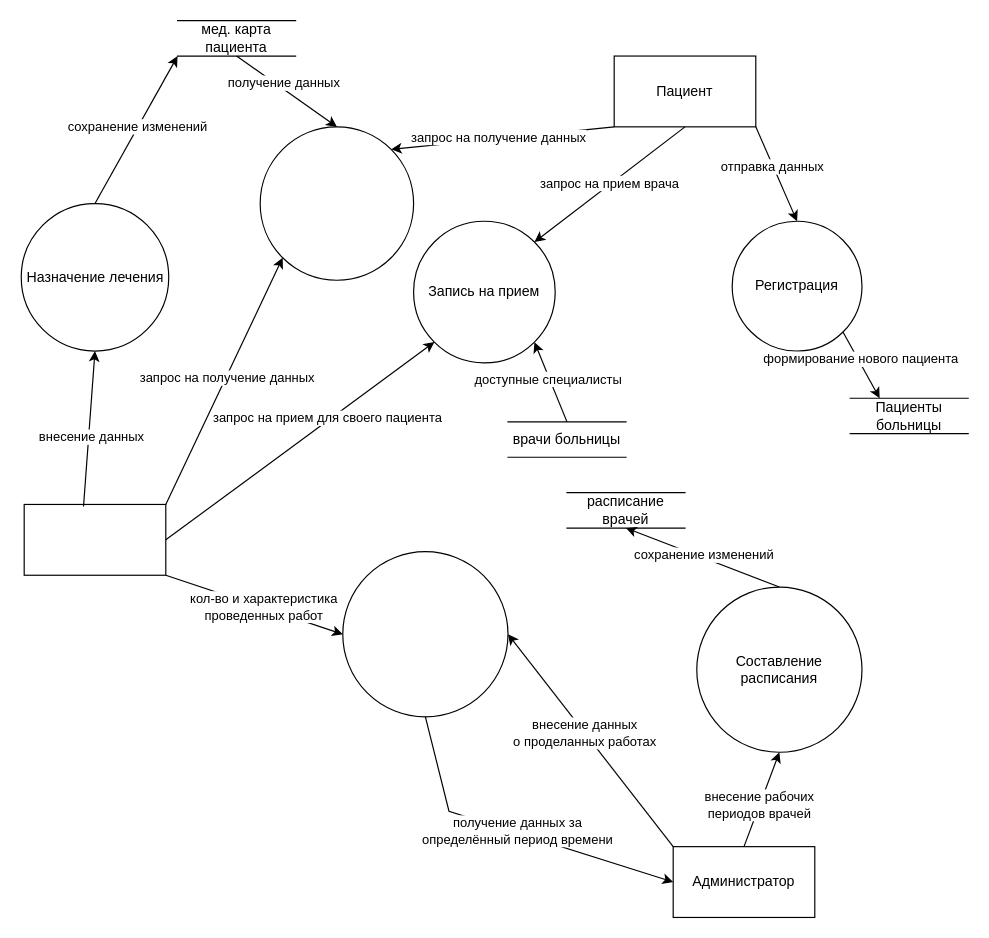
The diagram is 989 pixels wide and 938 high, and some of its shapes have lost their labels. Here are the shapes that lost their labels. From the top down, the centre of each, then its label:
At [336,203]: "Просмотр мед. карты".
At [94,539]: "Врач".
At [425,633]: "Формирование отчетов".
